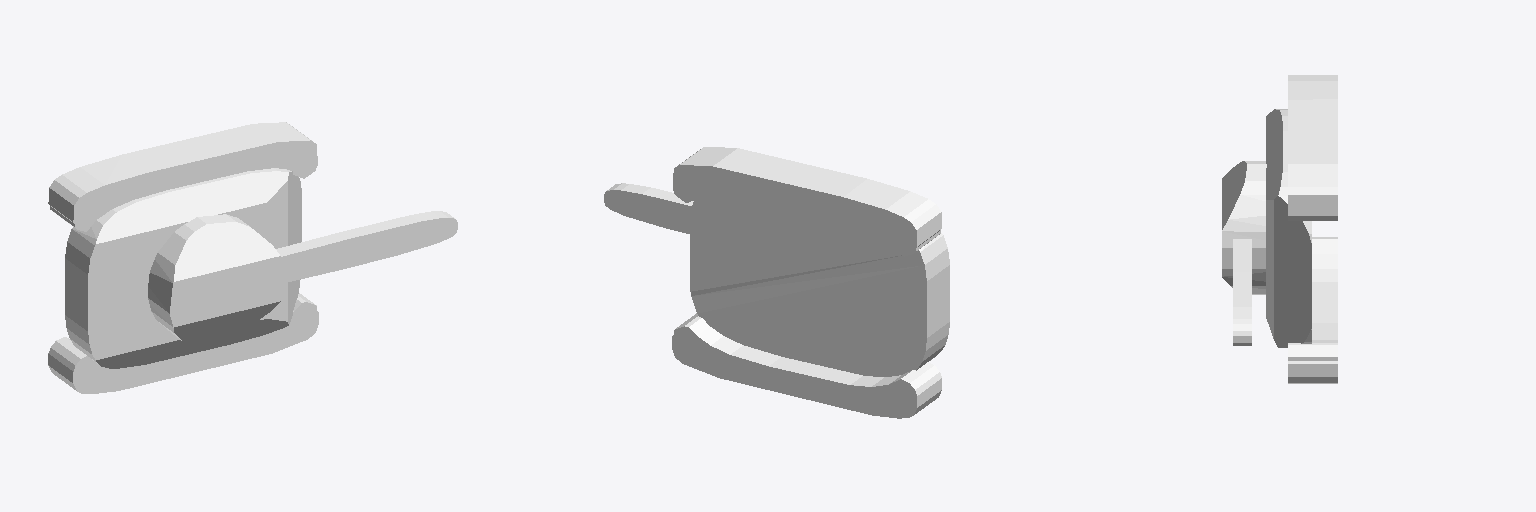
The model's file is t2d_v2_tanks_v5.obj.
3 views of the same model, side by side, from view 1: azimuth 30°, elevation 25°; view 2: azimuth 150°, elevation 25°; view 3: azimuth 270°, elevation 25° (orthographic).
Parts seen in each view (by area): view 1: Object.5, Object.4, Object.3, Object.2, Object.1; view 2: Object.5, Object.3, Object.2, Object.1; view 3: Object.5, Object.3, Object.2, Object.4, Object.1.
Part boxes in pixels (left/top/right/bottom): Object.5: left=65, top=168, right=301, bottom=368; Object.4: left=148, top=214, right=283, bottom=344; Object.3: left=48, top=122, right=317, bottom=231; Object.2: left=48, top=293, right=318, bottom=393; Object.1: left=276, top=211, right=457, bottom=282; Object.5: left=690, top=196, right=949, bottom=376; Object.3: left=673, top=147, right=941, bottom=256; Object.2: left=672, top=313, right=941, bottom=418; Object.1: left=604, top=183, right=693, bottom=233; Object.5: left=1266, top=109, right=1311, bottom=347; Object.3: left=1288, top=75, right=1337, bottom=220; Object.2: left=1288, top=237, right=1337, bottom=383; Object.4: left=1222, top=161, right=1266, bottom=294; Object.1: left=1233, top=239, right=1251, bottom=345.
Bounding box in the file's own units: 131 × 73.92 × 36.97.